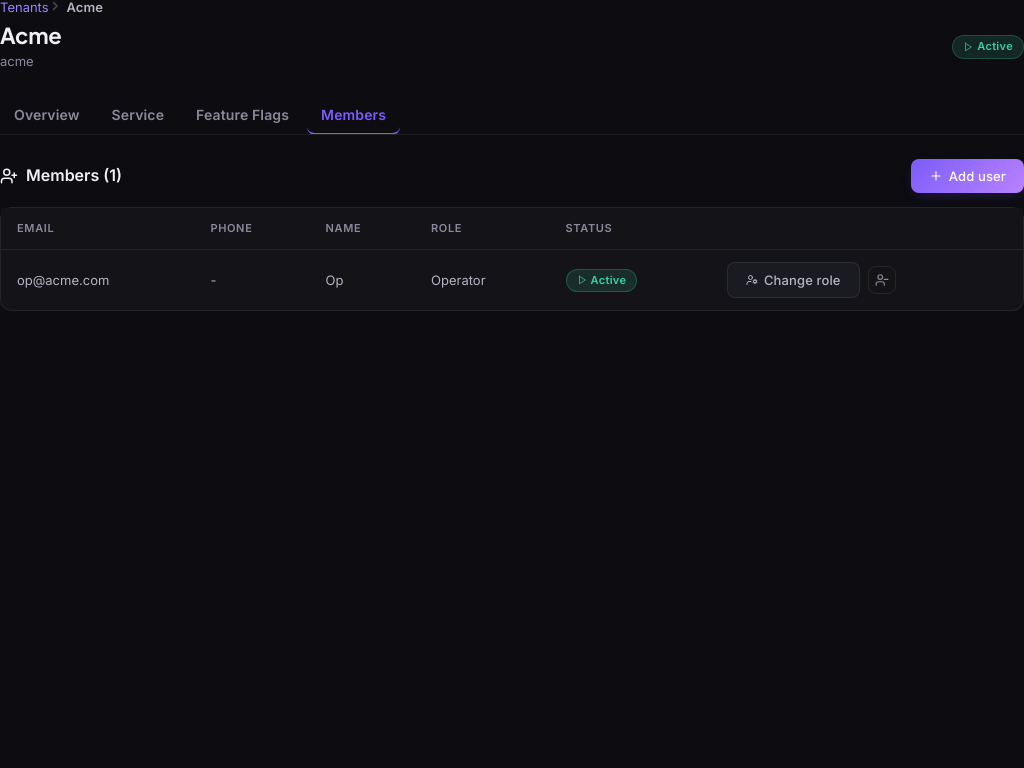
Test: SATenantDetailPage — members › revokes only after confirmation and reports the closed assignments
Click the button named "Revoke op@acme.com" at (882, 280), box [868,266,896,294]
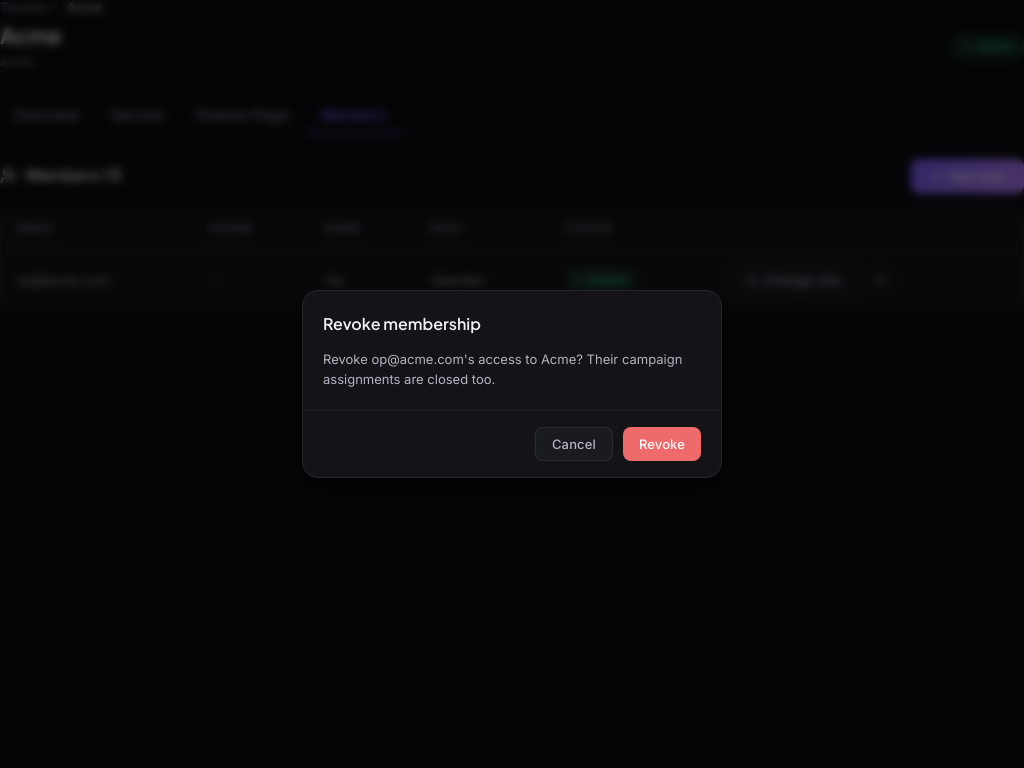
Click the button "Revoke" at (662, 444), box [623,427,701,461]
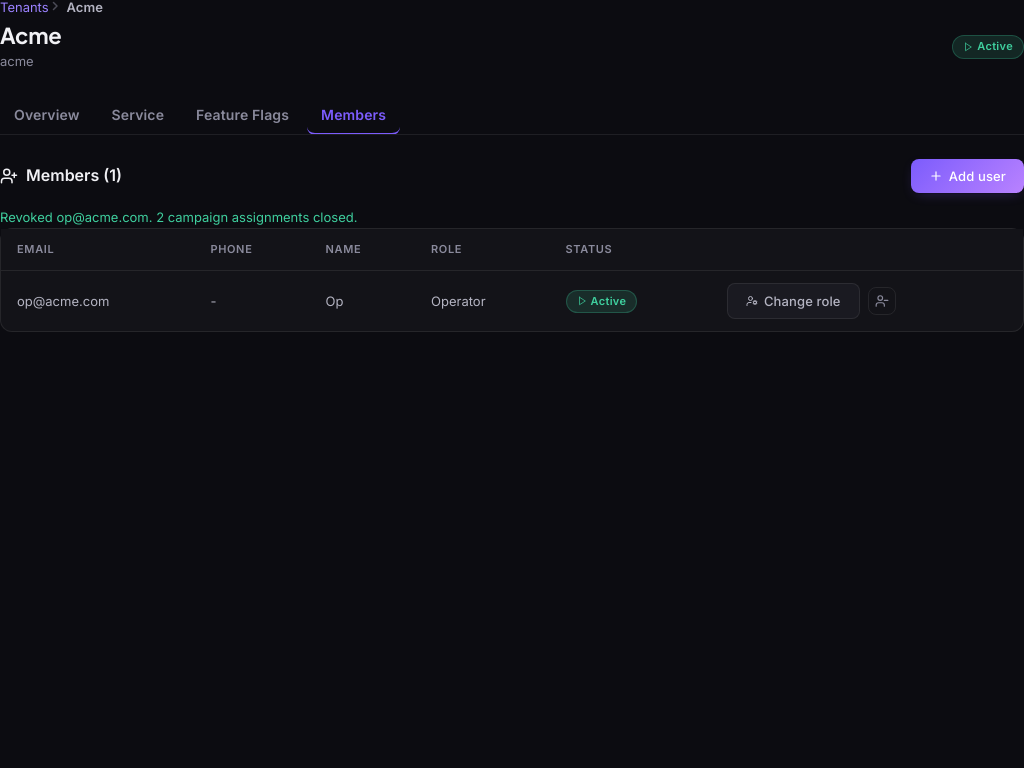
Check: the text "Revoked op@acme.com. 2 campaign assignments closed." is shown, box [0,209,358,225]
